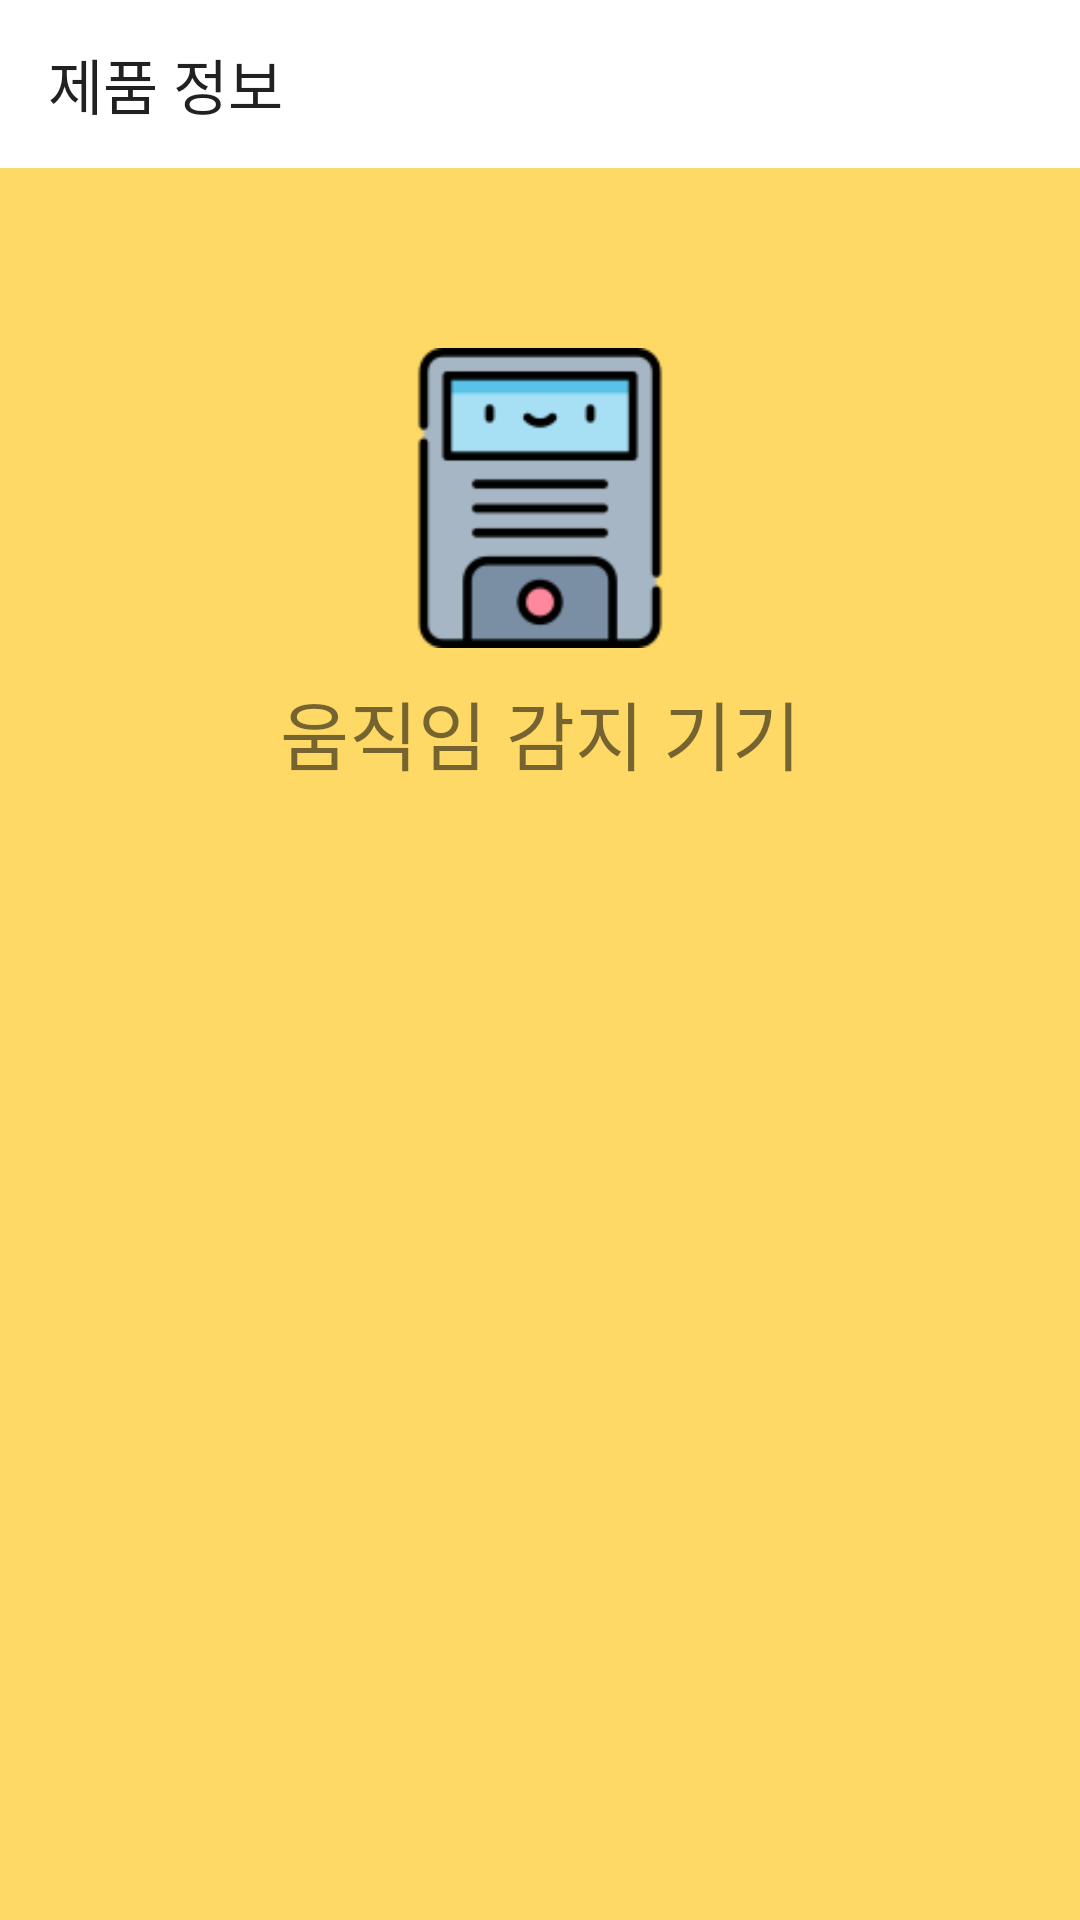

Screen size 1080 x 1920. Icon name, then its box in pixels as (x1, y1, x2, y2):
interphone device: (417, 348, 663, 648)
